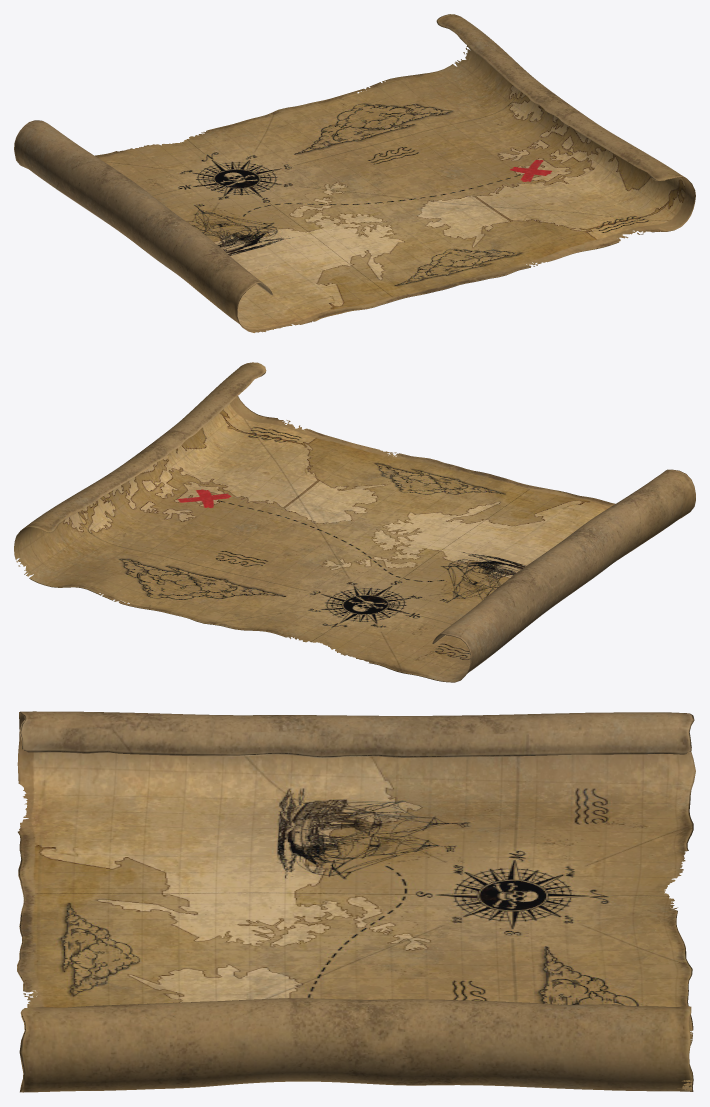
File: Map.fbx
3 renders of one model, top to bottom at view 1: azimuth 30°, elevation 25°; view 2: azimuth 150°, elevation 25°; view 3: azimuth 270°, elevation 25°, orthographic. The views are drawn at different scales.
Parts seen in each view (by area): view 1: map.Shape; view 2: map.Shape; view 3: map.Shape.
Part boxes in pixels (x1,y1,x2,y2): map.Shape: [14, 14, 695, 332]; map.Shape: [14, 362, 695, 682]; map.Shape: [17, 711, 695, 1092].
Size of the model in its own units: 57.87 by 6.81 by 49.81.
